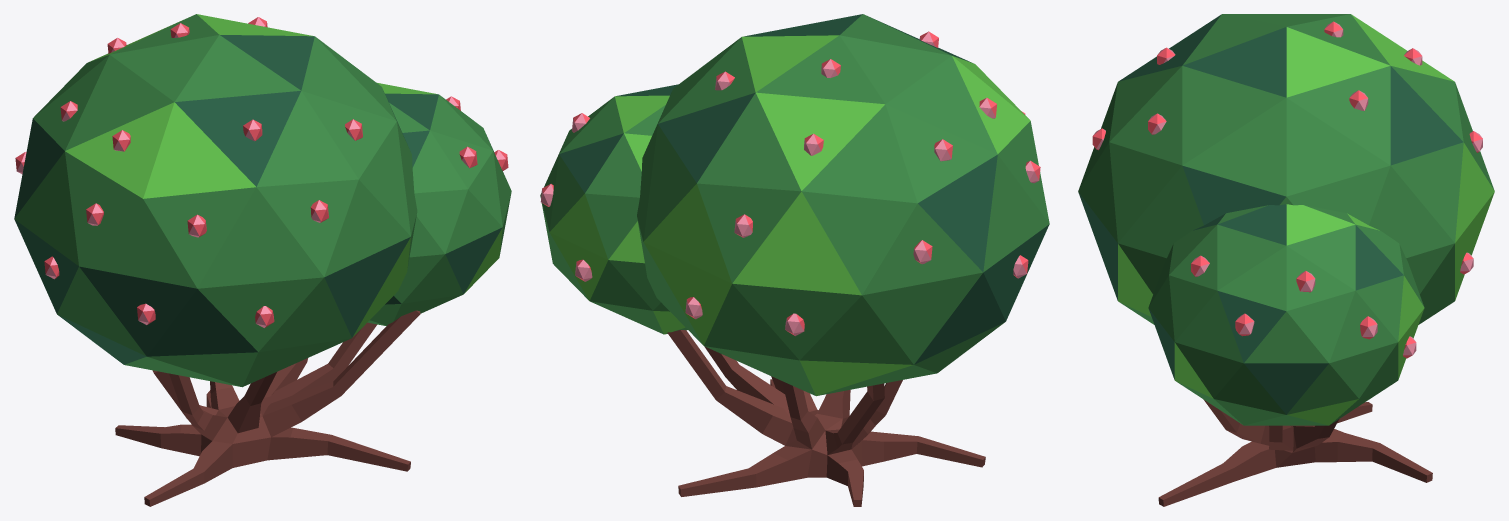
The model's file is Bush 04.fbx.
3 views of the same model, side by side, from view 1: azimuth 30°, elevation 25°; view 2: azimuth 150°, elevation 25°; view 3: azimuth 270°, elevation 25° (orthographic). The views are drawn at different scales.
Parts seen in each view (by area): view 1: Bush 04, Bush 04 Fruits; view 2: Bush 04, Bush 04 Fruits; view 3: Bush 04, Bush 04 Fruits.
Boxes of the visible parts, x1,y1,x2,y2 form: Bush 04: (14,14,511,506); Bush 04 Fruits: (15,17,508,327); Bush 04: (540,14,1049,506); Bush 04 Fruits: (540,31,1040,335); Bush 04: (1078,14,1494,506); Bush 04 Fruits: (1092,21,1482,358).
Size of the model in its own units: 247 by 222 by 200.
